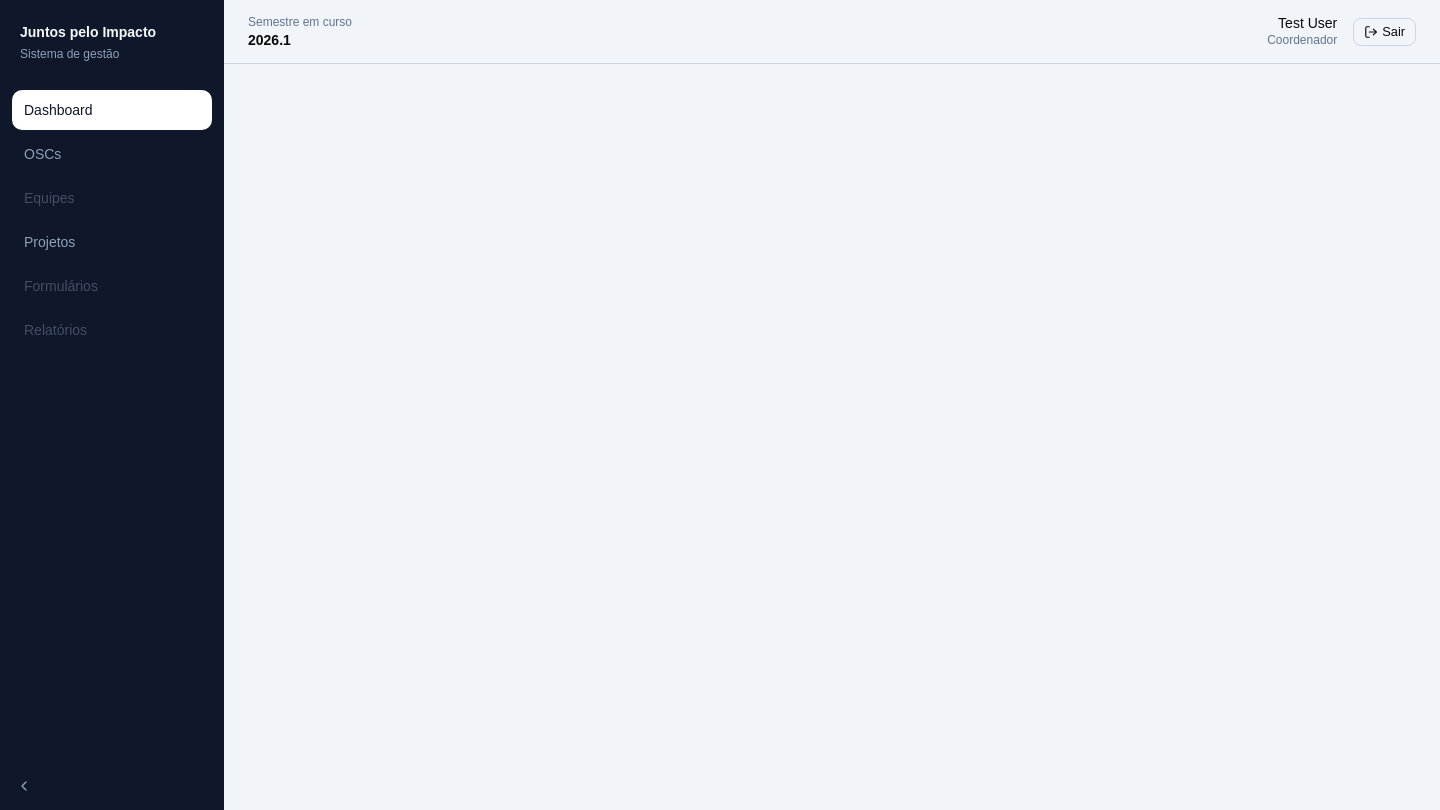
AuthenticatedLayout › toggles sidebar collapse when toggle button is clicked
Expected: the link "Dashboard" is shown, [12,90,212,130]
Click the button named "retrair sidebar" at [24, 786], box [8,770,40,802]
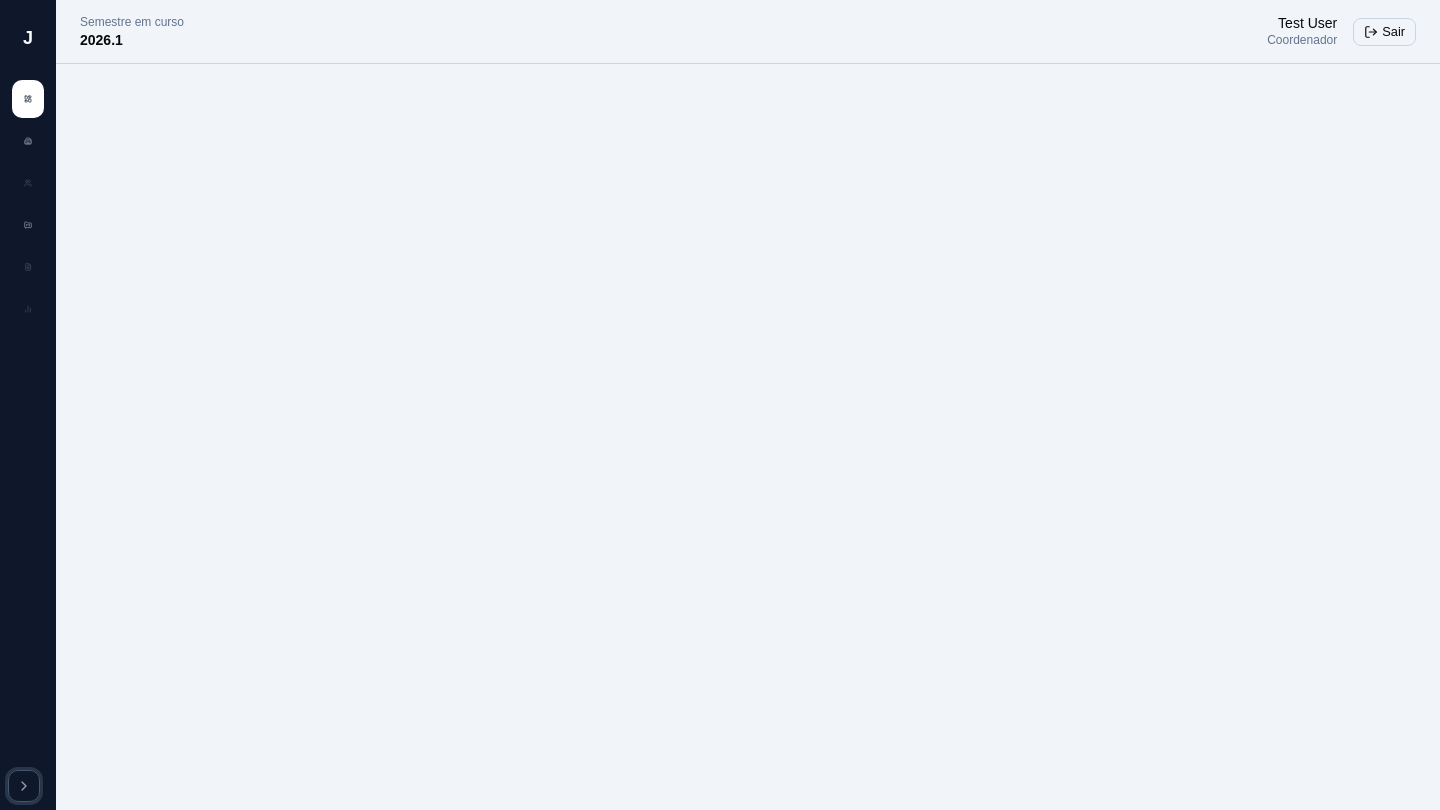
Expected: the button named "expandir sidebar" is shown, [8,770,40,802]
